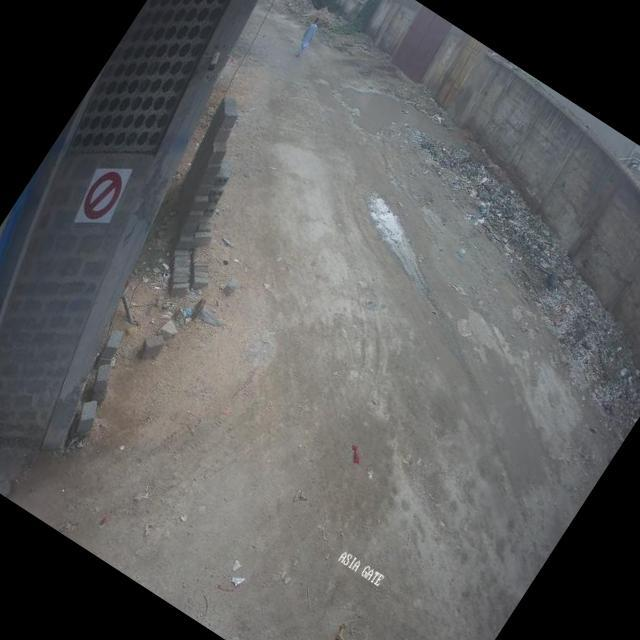person: (284, 10, 330, 68)
